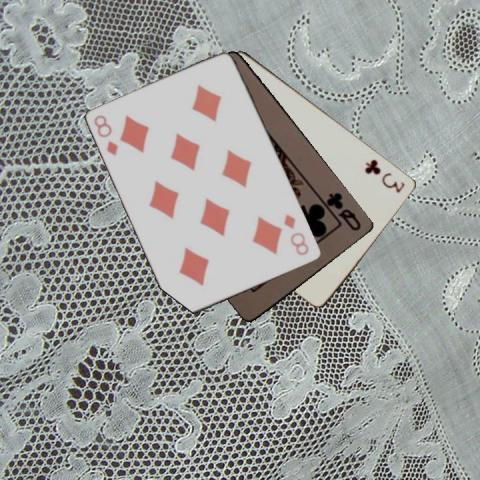3c: (362, 156, 407, 194)
8d: (281, 211, 311, 257), (91, 112, 120, 157)
Qc: (323, 189, 363, 233)
